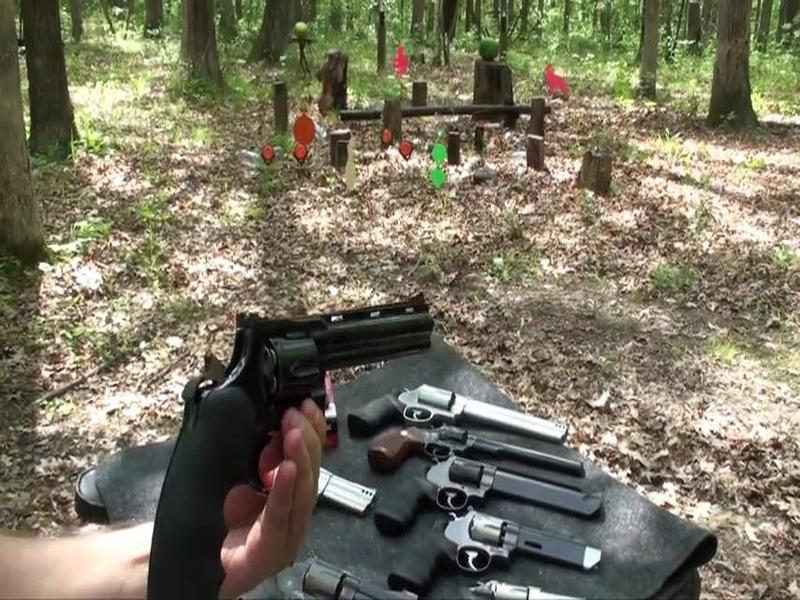Revolver: (137, 285, 467, 527)
